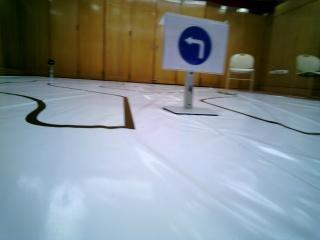left: (169, 16, 225, 70)
